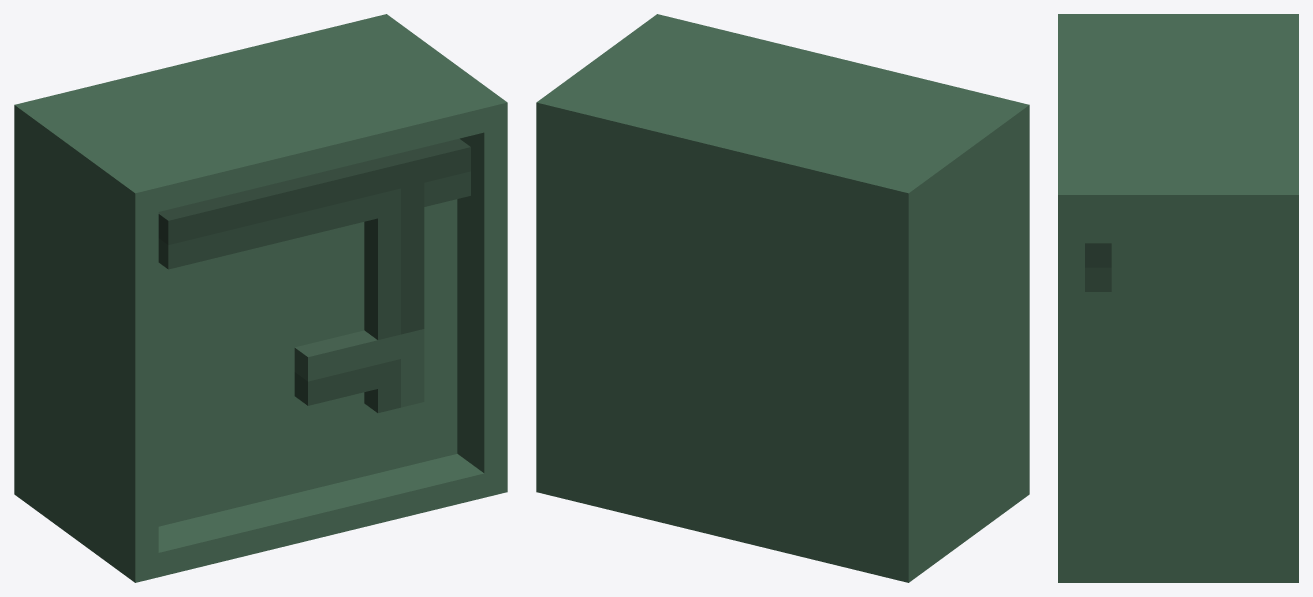
The model's file is wall_new_2.obj.
3 renders of one model, left to right at view 1: azimuth 30°, elevation 25°; view 2: azimuth 150°, elevation 25°; view 3: azimuth 270°, elevation 25°, orthographic.
Size of the model in its own units: 16 by 16 by 9.
1 material, 1 textured.
